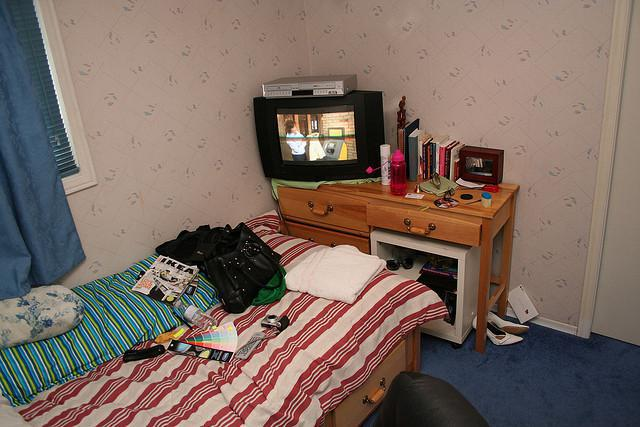tv: (258, 93, 376, 175)
